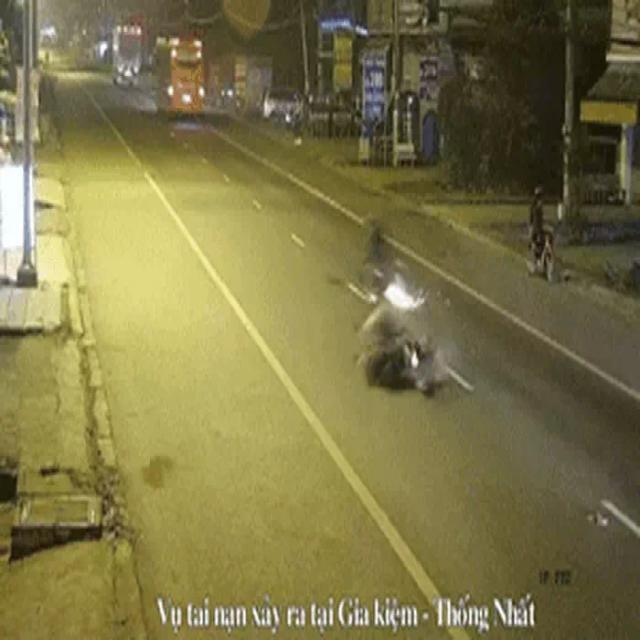multiple_accident: (334, 205, 457, 411)
